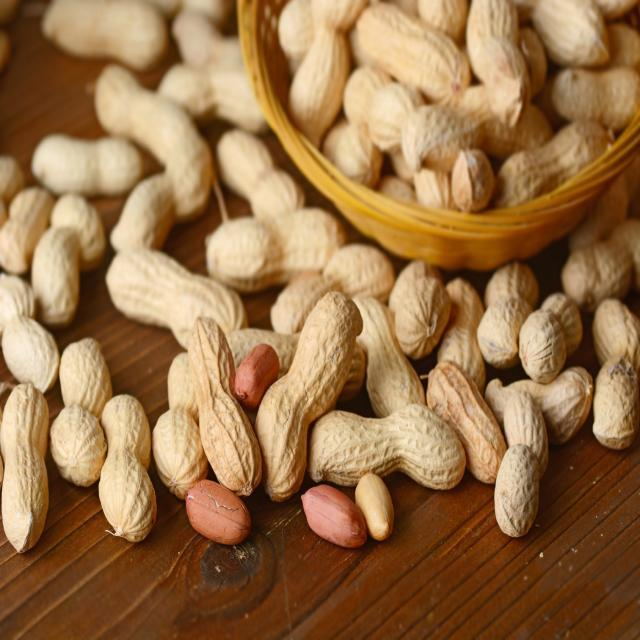Frutta secca: (13, 150, 639, 562), (266, 0, 601, 196)
